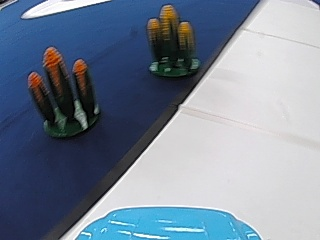corn: (30, 45, 102, 140), (146, 2, 199, 81)
